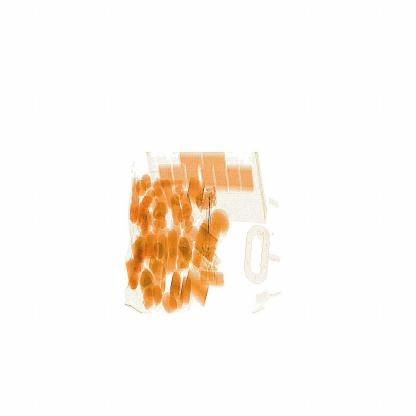pliers: (201, 190, 220, 258)
